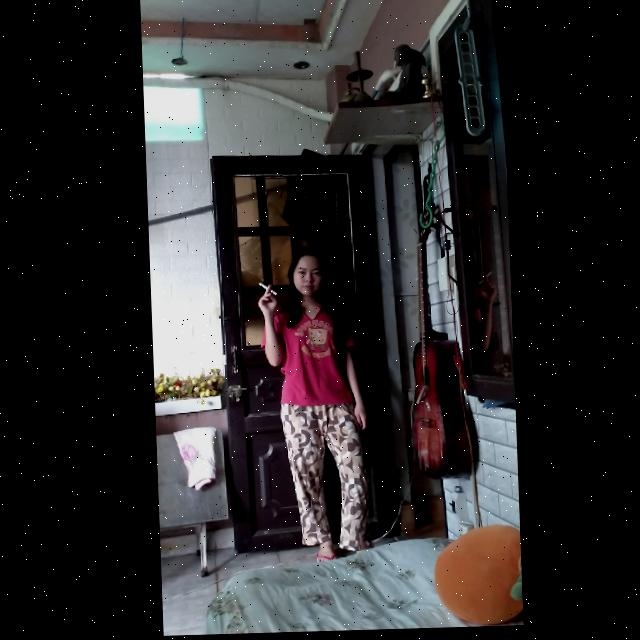cigarette: (256, 284, 275, 298)
